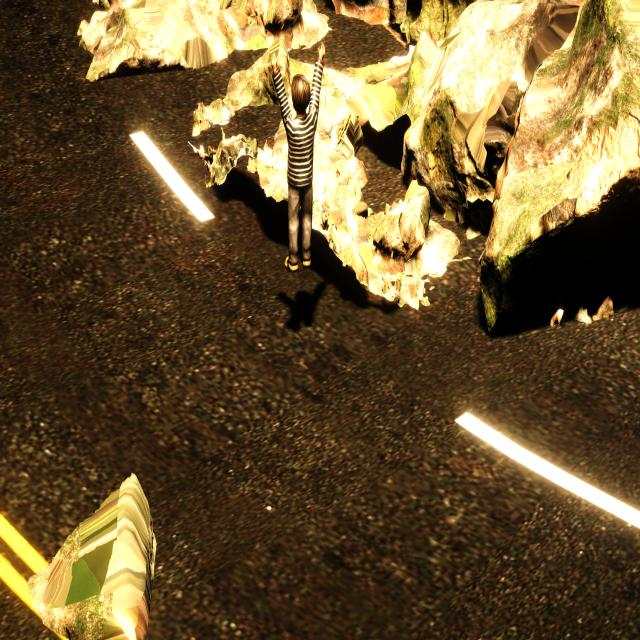Human: (269, 39, 327, 276)
